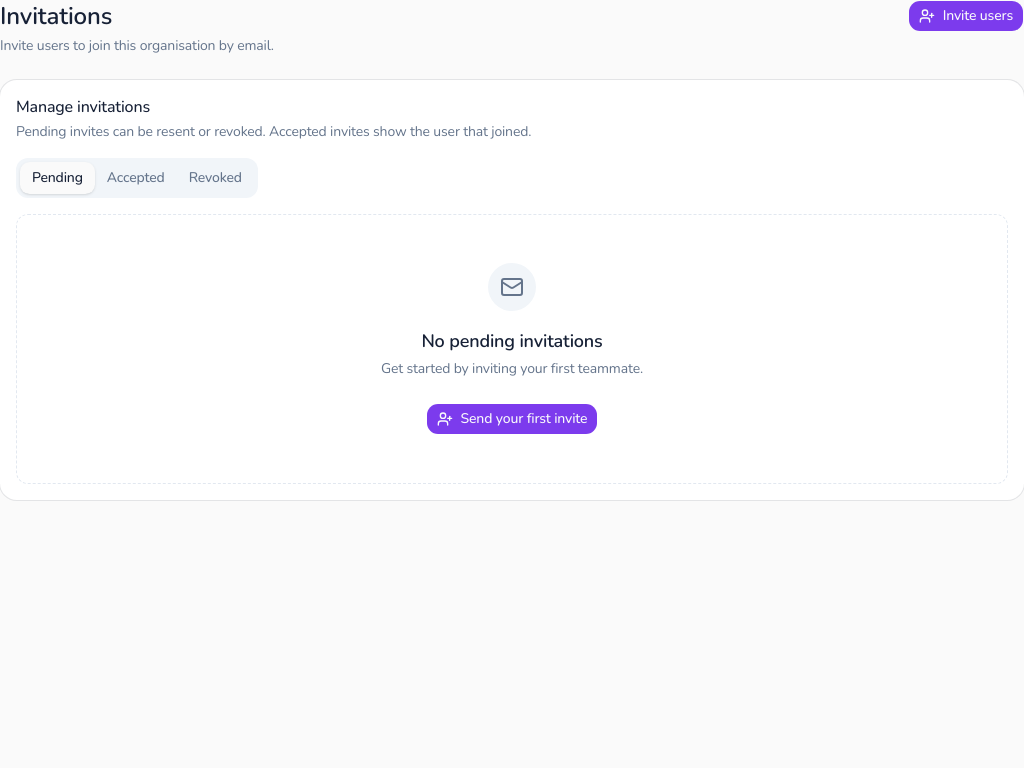
Test case: OrgInvitesClient › submit invite form — shows validation error when no valid email entered
This screenshot has width=1024, height=768.
Check: the heading "No pending invitations" is shown, box [421,327,603,355]
Click the button "Invite users" at x=966, y=16, box [908,0,1023,32]
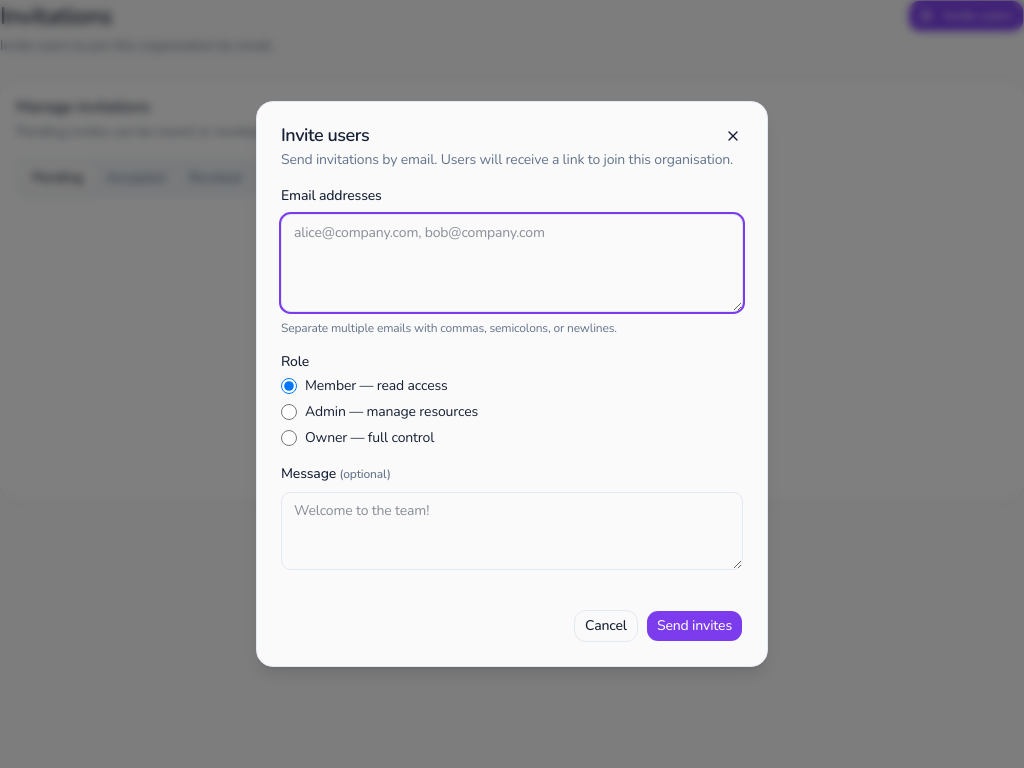
Check: the dialog is shown, box [256,101,768,667]
Note: Leave emails textarea empty and submit
Click the button "Send invites" at x=694, y=626, box [646,610,743,642]
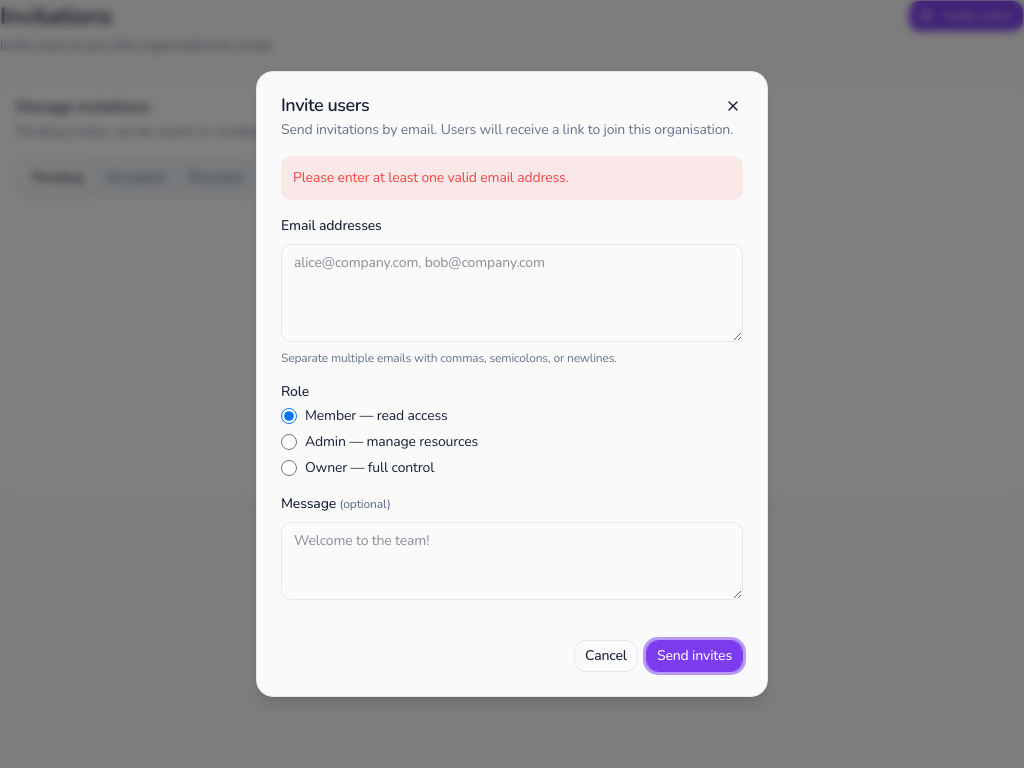
Check: the message shows "at least one valid email", box [293,168,569,187]
